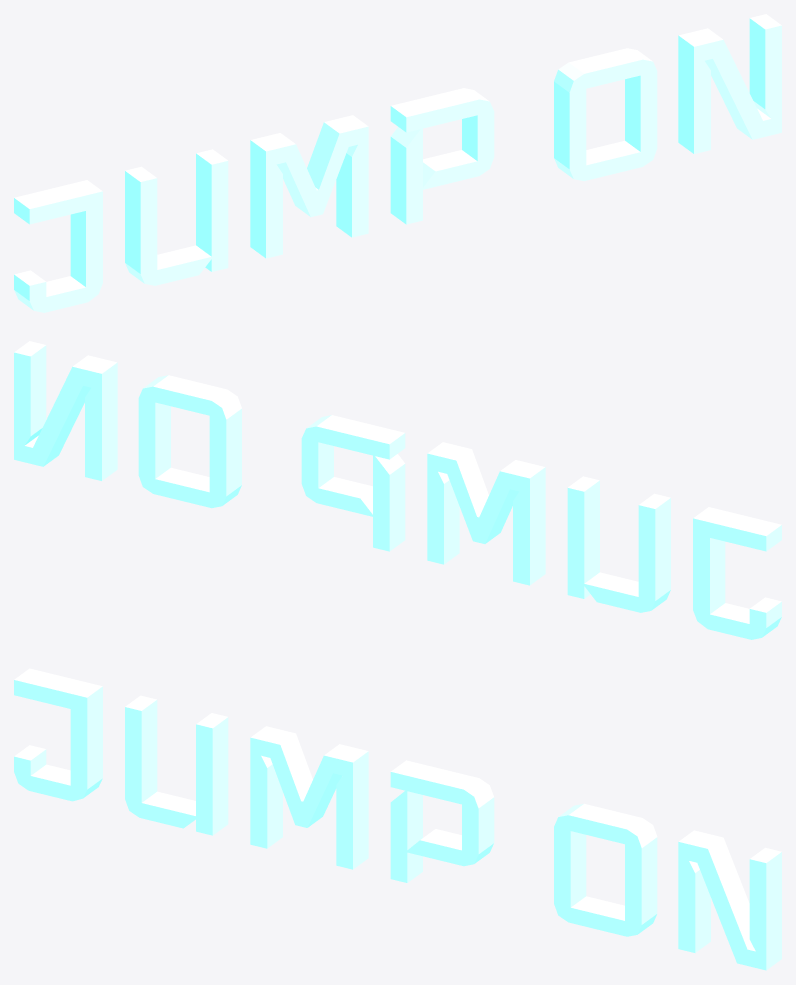
File: jump on.fbx
3 views of the same model, one above another, from view 1: azimuth 30°, elevation 25°; view 2: azimuth 150°, elevation 25°; view 3: azimuth 330°, elevation 25° (orthographic).
Visible parts, largest first — view 1: Text; view 2: Text; view 3: Text.
Part boxes in pixels (left/top/right/bottom): Text: left=14, top=14, right=781, bottom=312; Text: left=14, top=341, right=781, bottom=639; Text: left=14, top=668, right=781, bottom=970.
Bounding box in the file's own units: 3.71 × 0.5062 × 0.1335.
